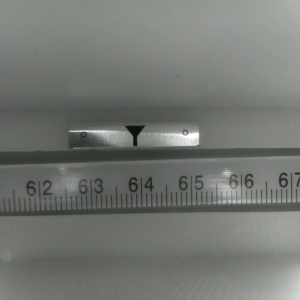2: (41, 179, 52, 195)
3: (93, 178, 103, 193)
4: (144, 177, 154, 192)
5: (193, 175, 203, 190)
6: (24, 180, 36, 196), (226, 172, 237, 188), (77, 178, 88, 194), (242, 173, 253, 188), (128, 176, 138, 192), (177, 175, 187, 191), (277, 172, 287, 188)
7: (294, 172, 300, 187)
finger: (123, 125, 145, 147)
